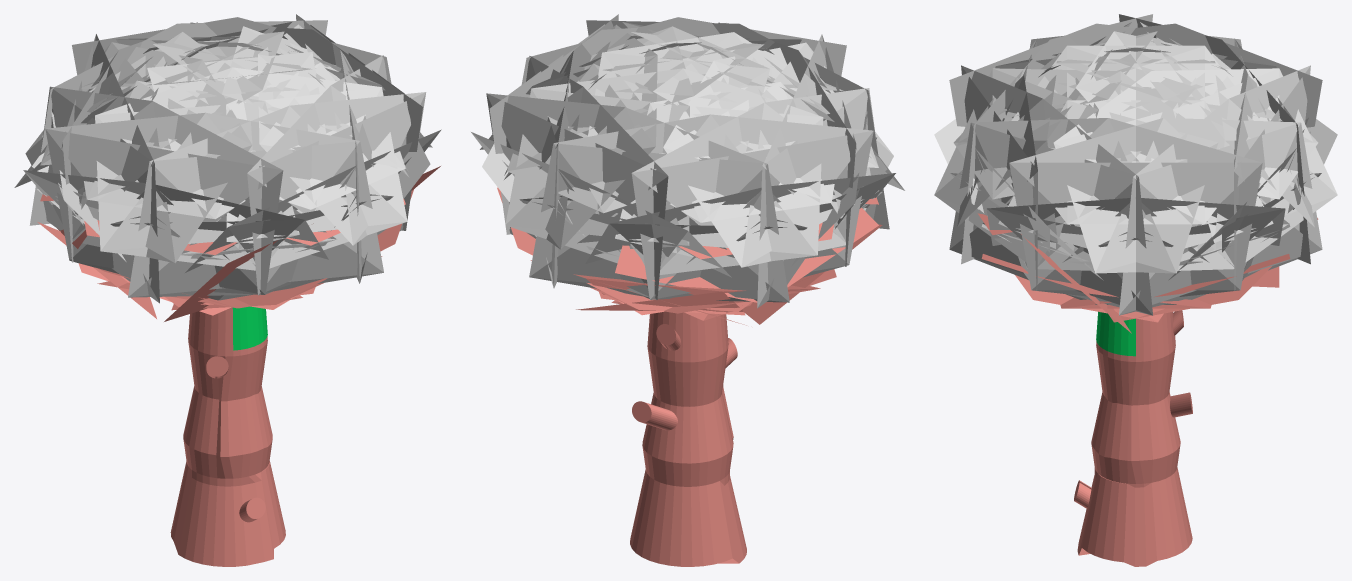
Rendered from TREEEEwomanWithAnim.fbx.
3 renders of one model, left to right at view 1: azimuth 30°, elevation 25°; view 2: azimuth 150°, elevation 25°; view 3: azimuth 270°, elevation 25°, orthographic.
Visible parts, largest first — view 1: Cylinder.001, Cylinder, Cylinder.002; view 2: Cylinder.001, Cylinder; view 3: Cylinder.001, Cylinder, Cylinder.002.
Part boxes in pixels (x1,y1,x2,y2): Cylinder.001: [14, 14, 441, 303]; Cylinder: [37, 166, 440, 566]; Cylinder.002: [232, 306, 267, 350]; Cylinder.001: [471, 14, 904, 308]; Cylinder: [497, 187, 882, 566]; Cylinder.001: [934, 14, 1337, 315]; Cylinder: [977, 213, 1318, 566]; Cylinder.002: [1096, 311, 1135, 356].
Size of the model in its own units: 1028 by 1300 by 976.
